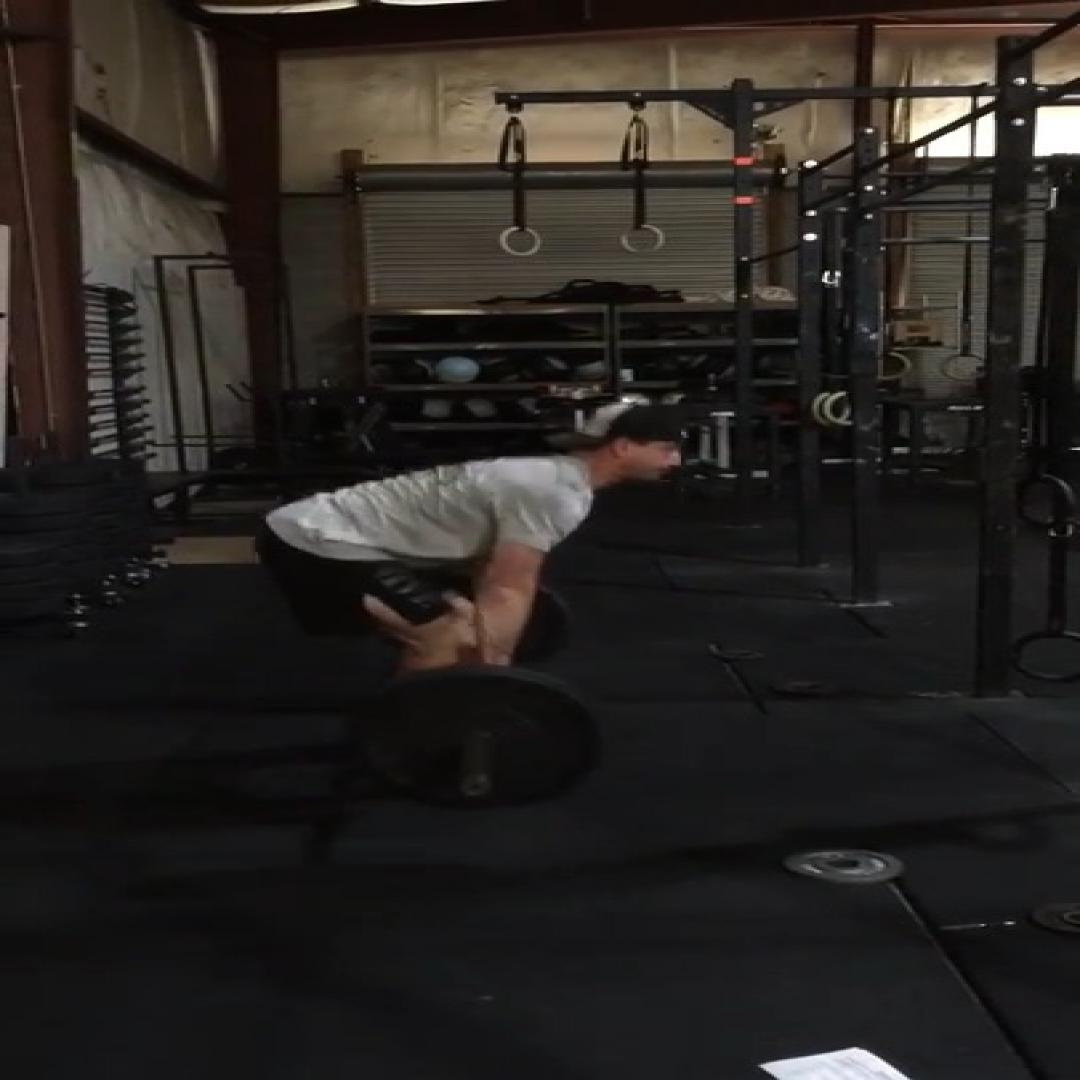Bar: (455, 774, 497, 798)
Barbell: (349, 674, 601, 810)
